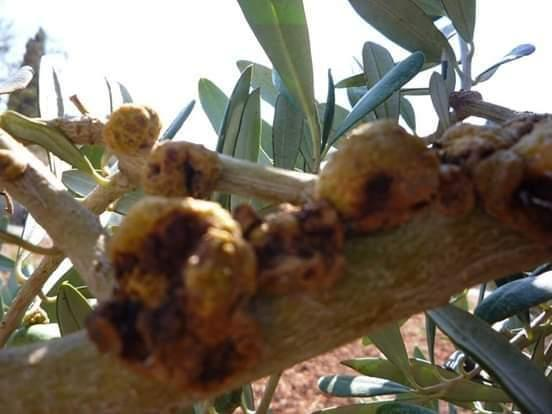Tuberculosis: (80, 198, 279, 395), (106, 98, 284, 208), (308, 113, 442, 242), (462, 104, 552, 254)
